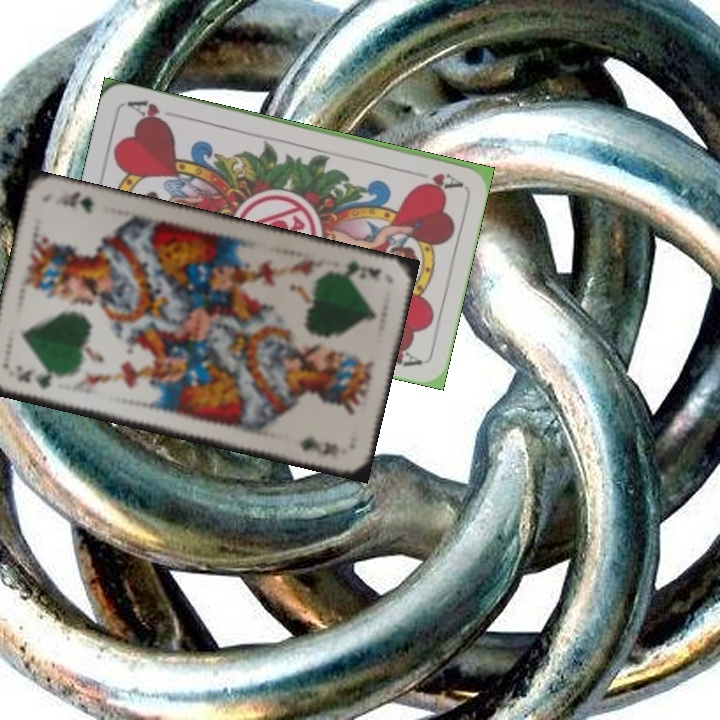GK: (329, 256, 384, 281), (13, 366, 55, 392)
HA: (405, 167, 464, 192)
